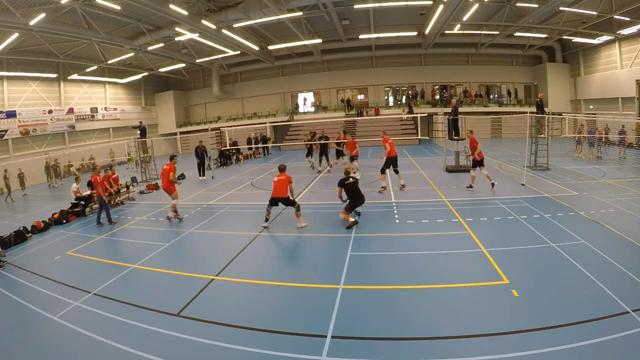ricezione: (330, 163, 368, 230)
